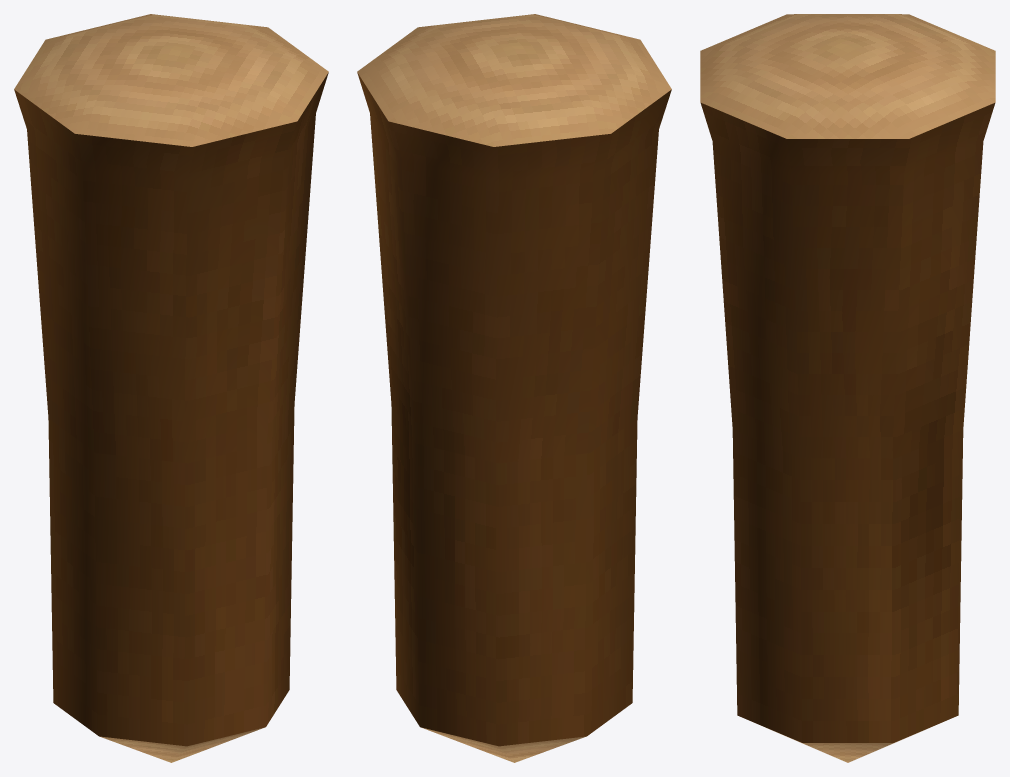
The model's file is Docks_Railing_Post_Top_1x1.glb.
3 views of the same model, side by side, from view 1: azimuth 30°, elevation 25°; view 2: azimuth 150°, elevation 25°; view 3: azimuth 270°, elevation 25° (orthographic).
Parts seen in each view (by area): view 1: Docks_Railing_Post_Top_1x1; view 2: Docks_Railing_Post_Top_1x1; view 3: Docks_Railing_Post_Top_1x1.
Boxes of the visible parts, box(x1,y1,x2,y2) form: Docks_Railing_Post_Top_1x1: box(14, 14, 328, 762); Docks_Railing_Post_Top_1x1: box(357, 14, 671, 762); Docks_Railing_Post_Top_1x1: box(700, 14, 995, 762).
Size of the model in its own units: 0.231 by 0.6202 by 0.231.
2 materials, 2 textured.
